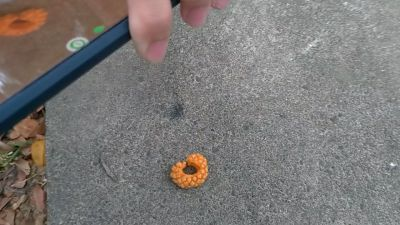eggs: (169, 153, 209, 189)
